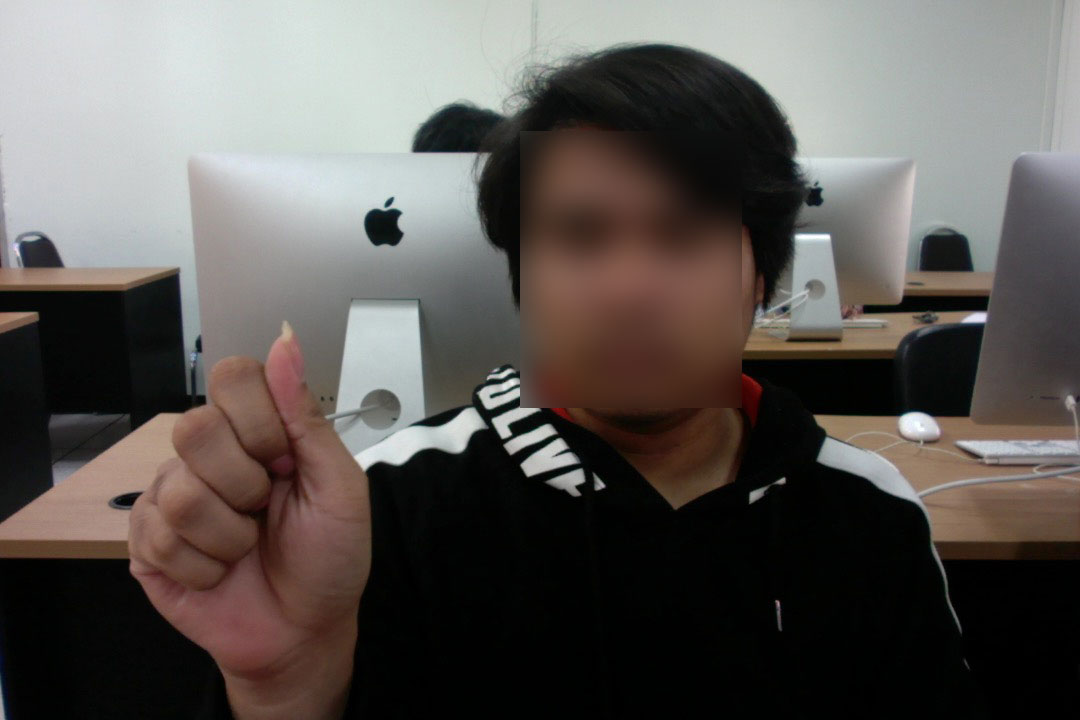or: (116, 311, 384, 681)
